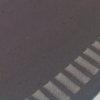Crosswalk: (29, 45, 100, 100)
